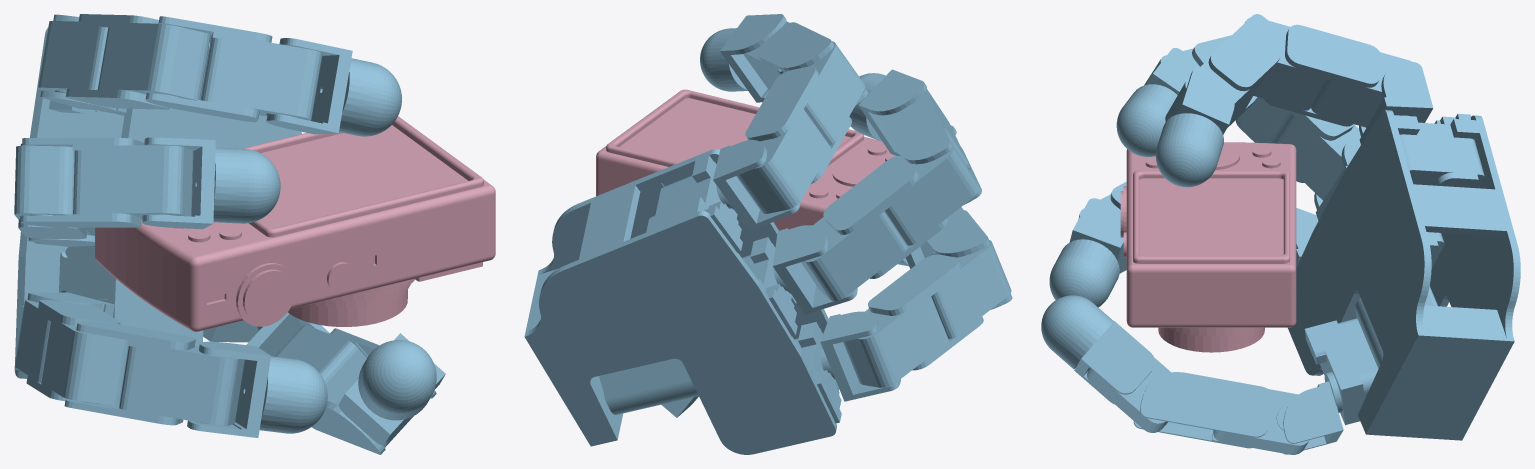
3 renders of one model, left to right at view 1: azimuth 30°, elevation 25°; view 2: azimuth 150°, elevation 25°; view 3: azimuth 270°, elevation 25°, orthographic. The views are drawn at different scales.
Parts seen in each view (by area): view 1: world, camera.stl; view 2: world, camera.stl; view 3: world, camera.stl.
Part boxes in pixels (x1,y1,x2,y2): world: (14,14,445,454); camera.stl: (95,116,495,331); world: (524,14,1012,454); camera.stl: (596,89,896,230); world: (1041,14,1520,454); camera.stl: (1120,142,1296,352).
Bounding box in the file's own units: 0.1546 × 0.1602 × 0.183.
